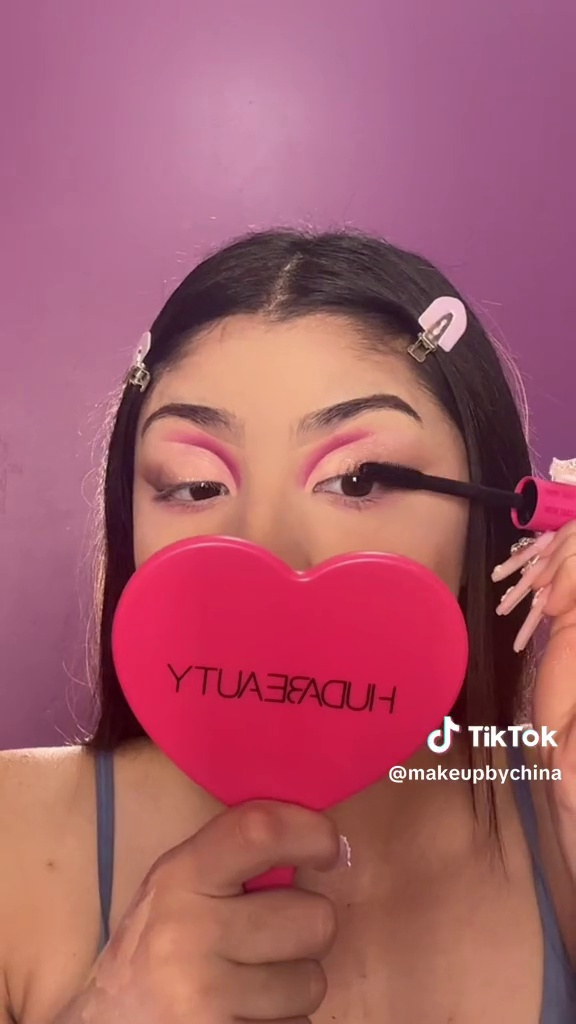train' :'yolo_data/train/images',: (108, 538, 475, 915), (353, 440, 575, 532)
